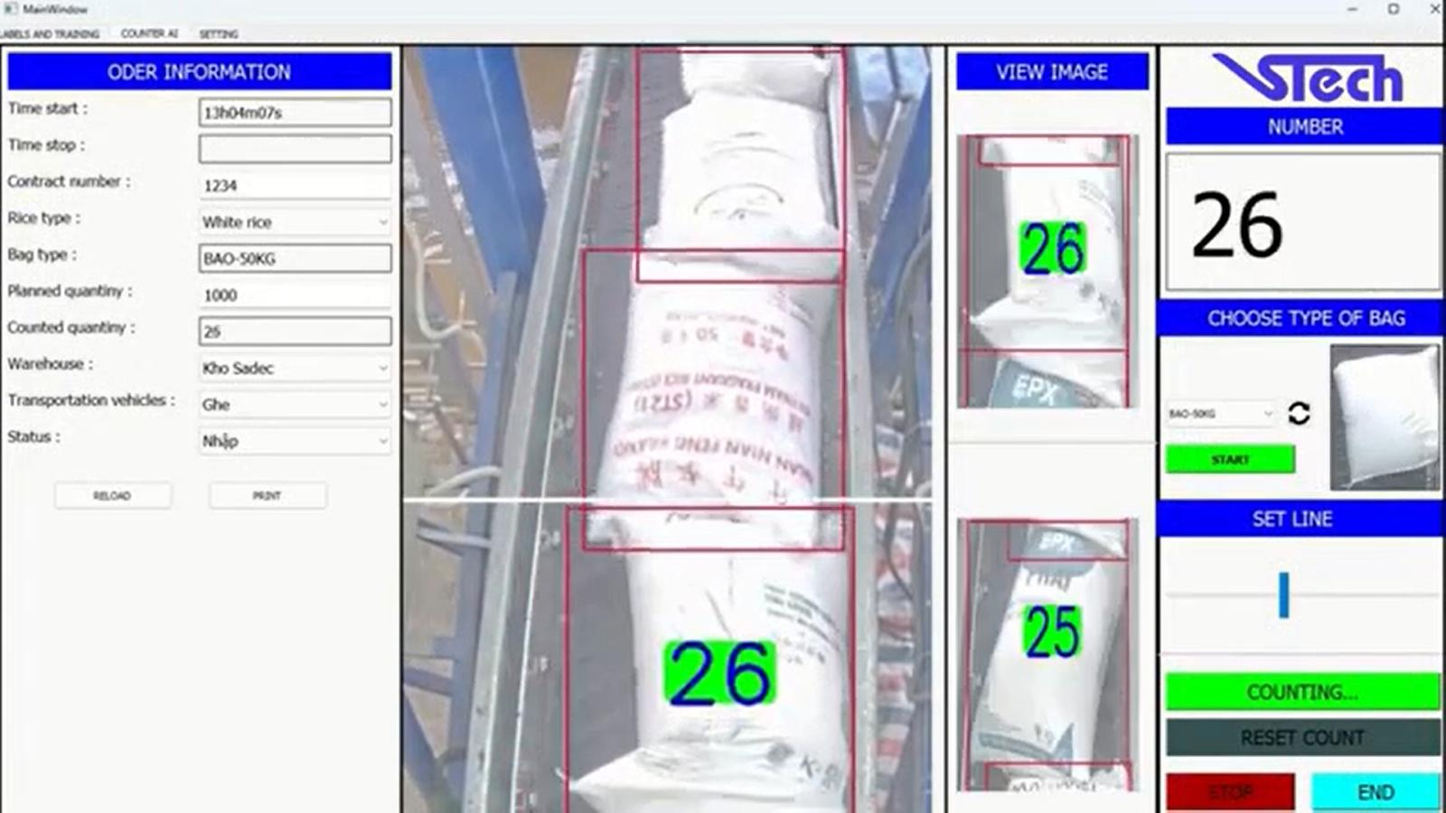rice-bag: (575, 548, 851, 812), (596, 285, 828, 504), (963, 520, 1131, 790), (972, 167, 1127, 406), (657, 91, 839, 250)
